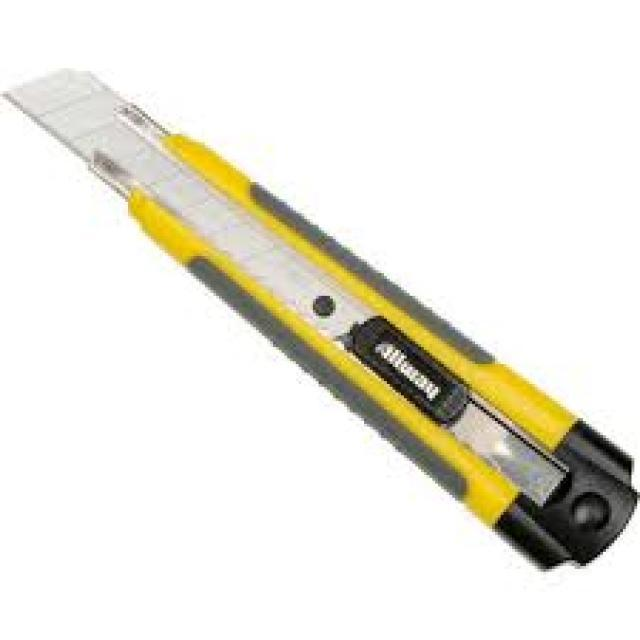cutter: (0, 62, 637, 580)
